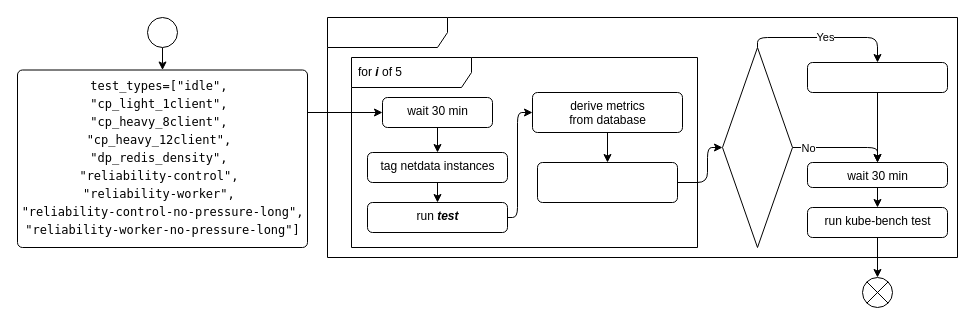
Some shapes in this 975 by 325 pixel diagram are drawn without their labels. The shapes that lost their labels are listed below. From the top down, each one's box as (x1, y1, x2, y2) in pixels, then its label:
(806, 62, 948, 92): clean containers step
(326, 16, 958, 258): for test of test_types
(722, 46, 792, 248): if test contains long-living containers
(536, 162, 678, 202): commit acquired test artifacts
